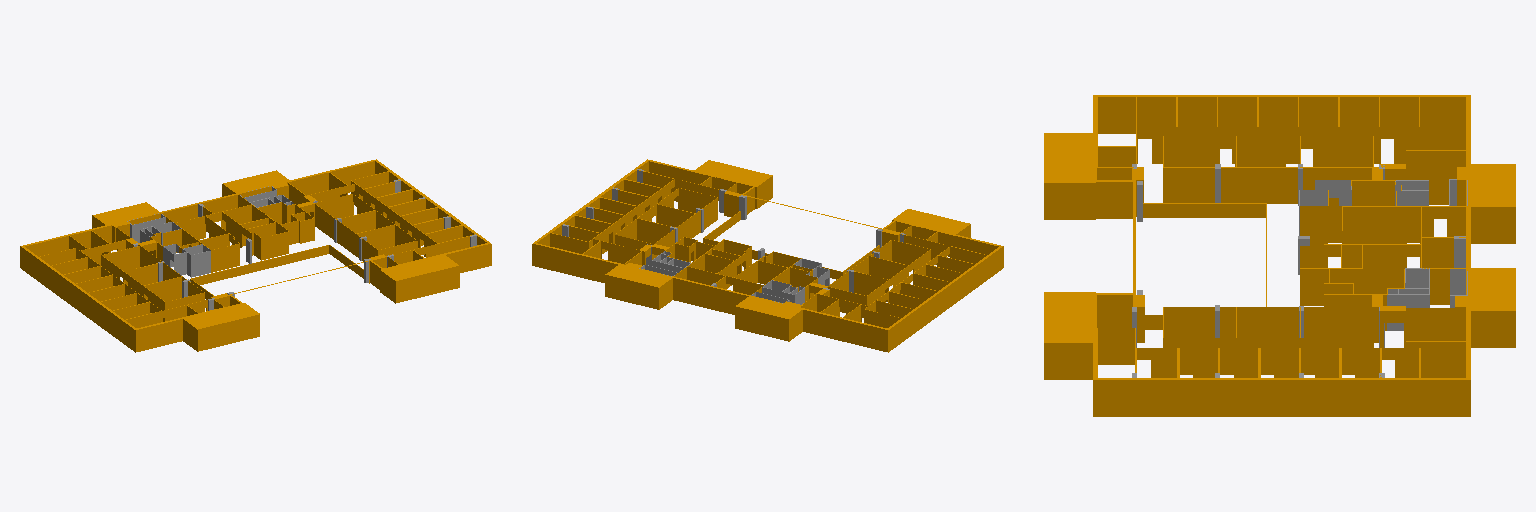
The robot description file, URDF, robot "cs_2":
<?xml version="1.0"?>
<robot name="cs_2">
  <link name="base_link">
    <visual>
      <origin rpy="0 0 0" xyz="0 0 0"/>
      <geometry>
        <mesh filename="package://strands_morse/bham/meshes/cs_2.dae"/>
      </geometry>
    </visual>
  </link>
  <link name="base_footprint"/>
  <joint name="base_footprint_joint" type="fixed">
    <origin rpy="0 0 0" xyz="0 0 0.0"/>
    <child link="base_link"/>
    <parent link="base_footprint"/>
  </joint>
</robot>

--- Render facts (derived) ---
3 views of the same robot in one strip: view 1: azimuth 30°, elevation 25°; view 2: azimuth 150°, elevation 25°; view 3: azimuth 270°, elevation 25° (orthographic).
Model cs_2 with 2 links and 1 joints (1 fixed), rooted at base_footprint, posed all joints at 0.
Visible links, largest first — view 1: base_link; view 2: base_link; view 3: base_link.
Link boxes in pixels (box(x1,y1,x2,y2)): base_link: box(20, 159, 491, 352); base_link: box(532, 159, 1003, 352); base_link: box(1044, 95, 1515, 416).
Size in the robot's own frame: 50 by 34.88 by 3 metres.
1 mesh visuals loaded from 1 distinct referenced files (1 Collada DAE).